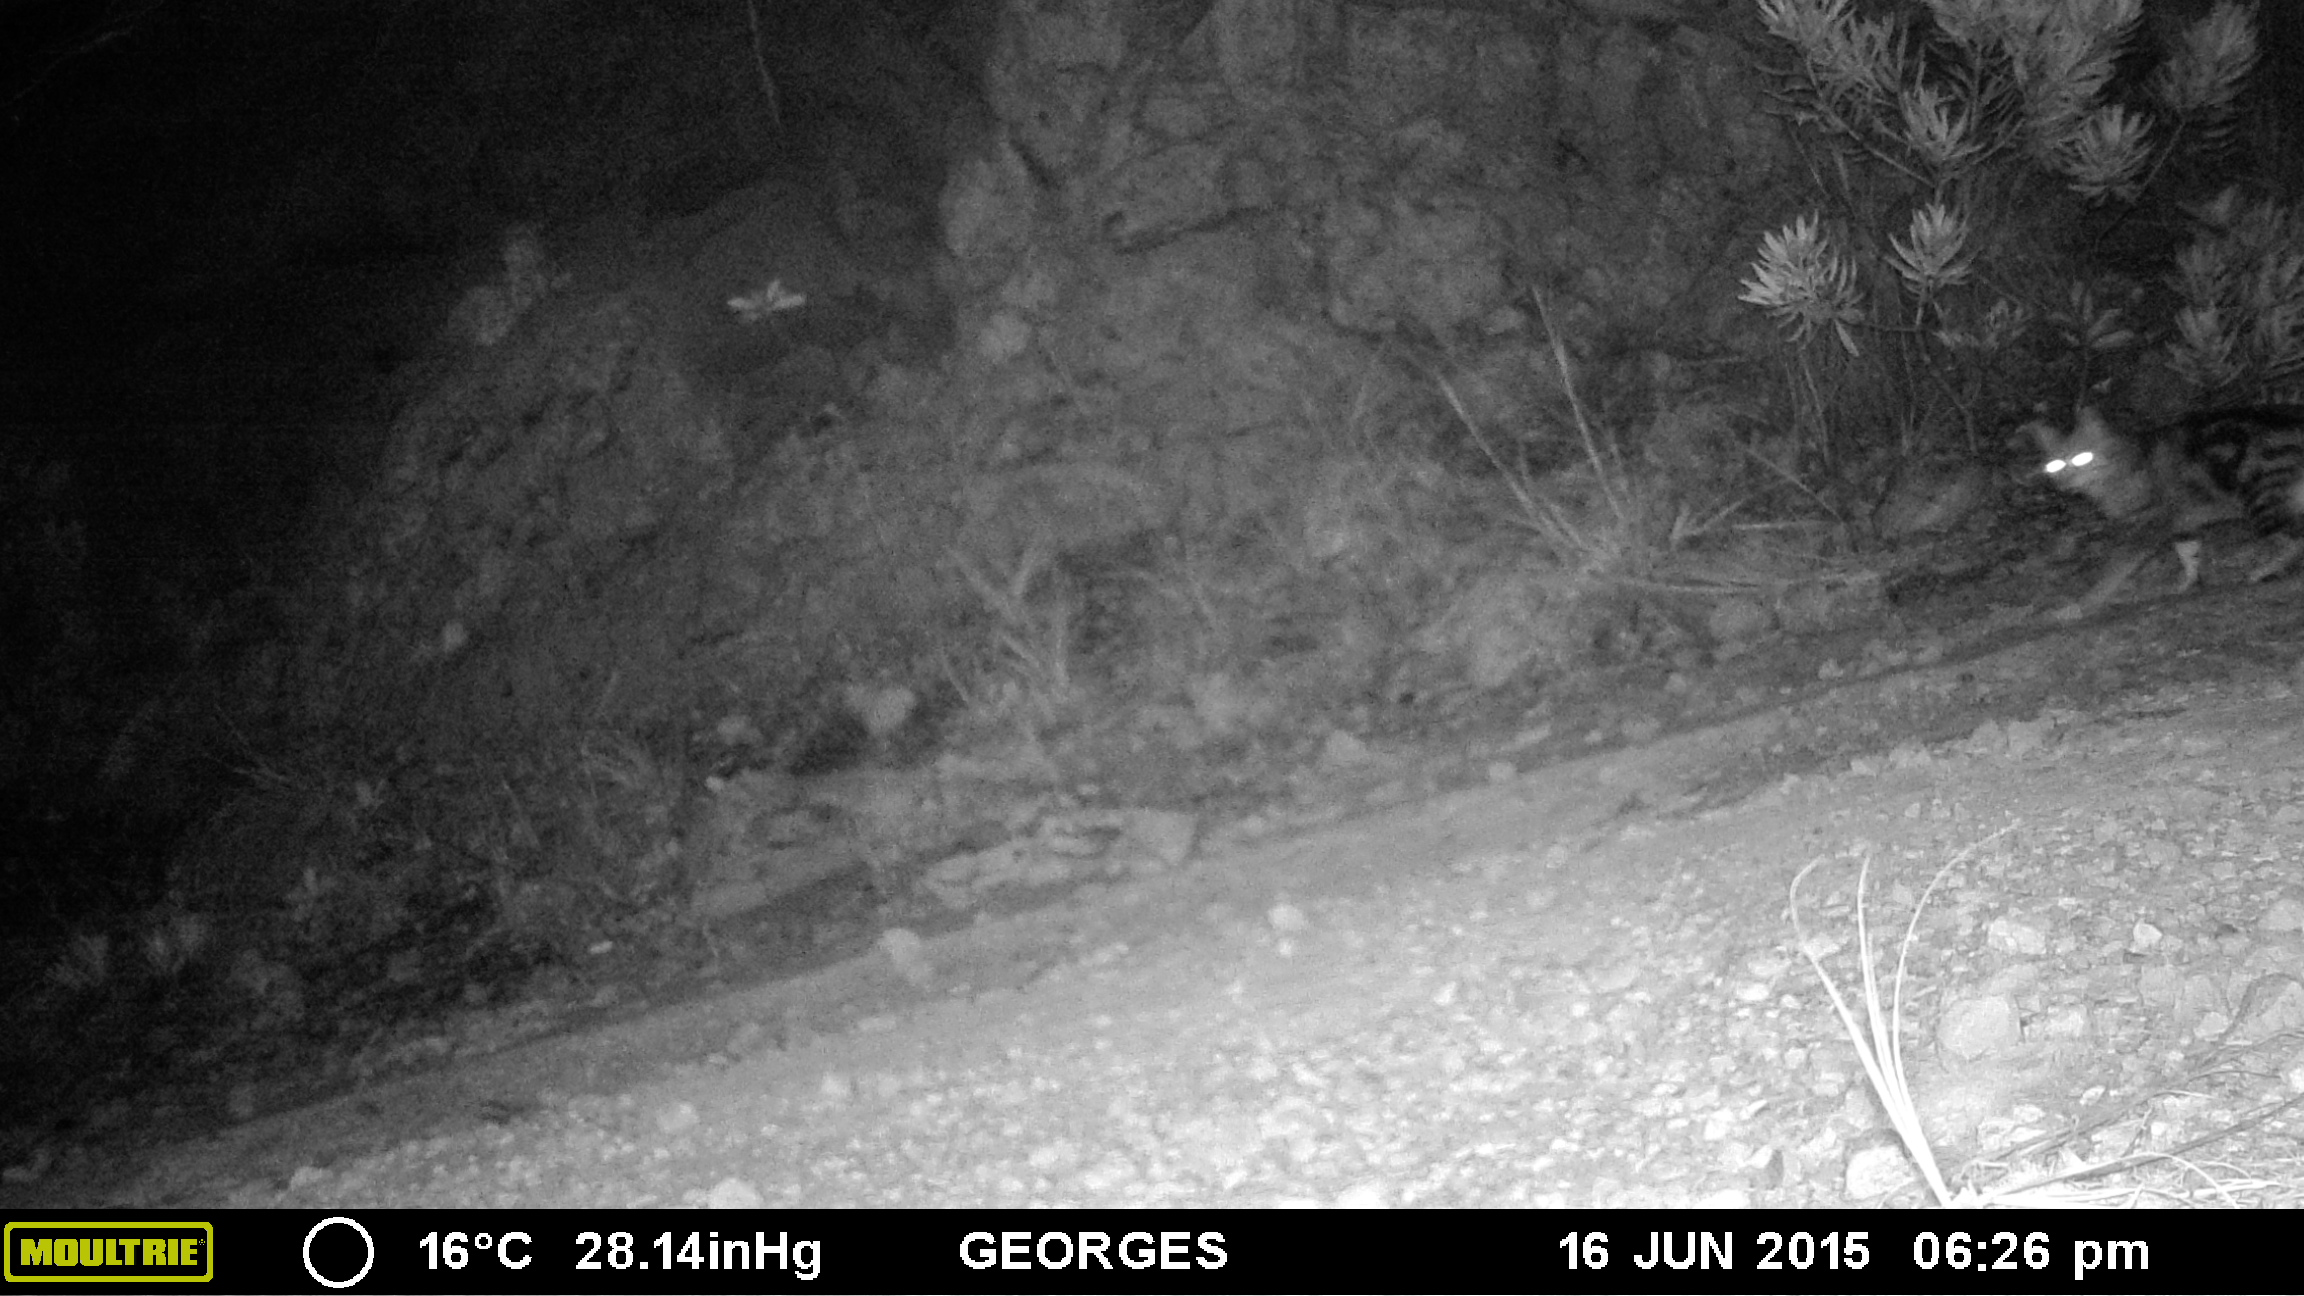cat: (2003, 407, 2298, 595)
